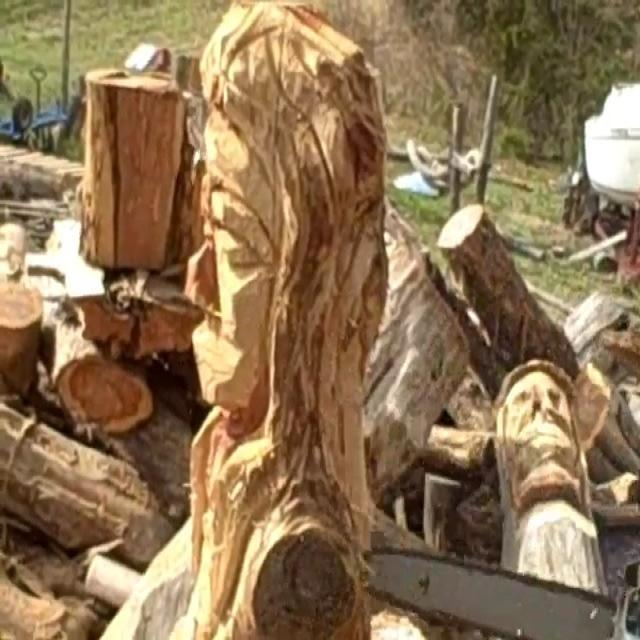Chainsaw: (338, 513, 640, 640)
